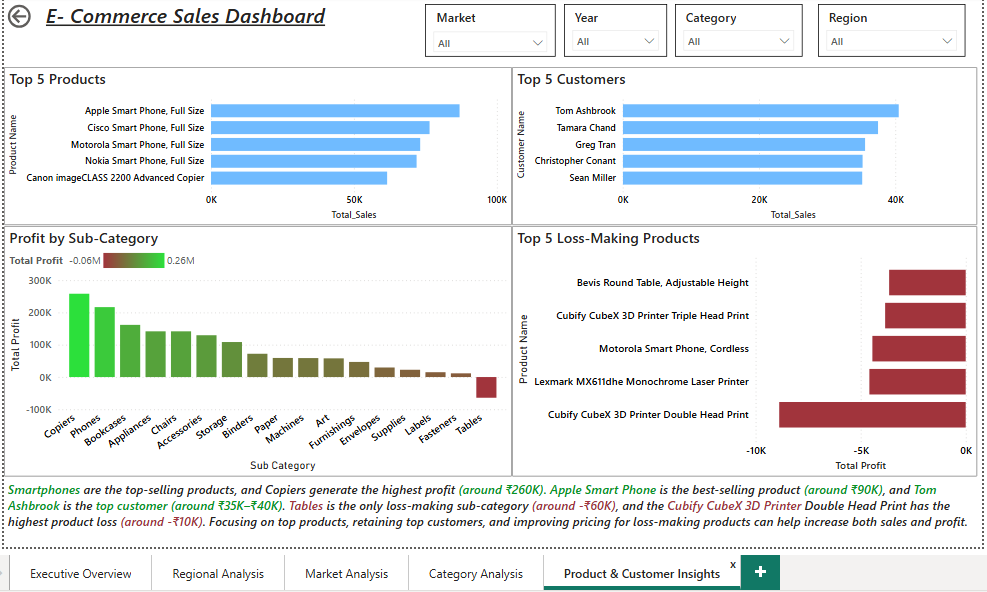

What the dashboard file says about the page in this screenshot:
{"tool":"powerbi","page":{"name":"Product & Customer Insights","canvas":[1280,720],"ordinal":4},"visuals":[{"type":"clusteredBarChart","title":"Top 5 Products","fields":{"Category":["E-Commerce.product_name"],"Y":["E-Commerce.Total_Sales"]},"box":[0,92.2,665.3,207.4],"z":0},{"type":"columnChart","title":"Profit by Sub-Category","fields":{"Category":["E-Commerce.sub_category"],"Y":["E-Commerce.Total_Profit"]},"box":[0,299.5,665.3,328.3],"z":1000},{"type":"clusteredBarChart","title":"Top 5 Customers","fields":{"Y":["E-Commerce.Total_Sales"],"Category":["E-Commerce.customer_name"]},"box":[665.3,92.2,609.1,207.4],"z":2000},{"type":"clusteredBarChart","title":"Top 5 Loss-Making Products","fields":{"Category":["E-Commerce.product_name"],"Y":["E-Commerce.Total_Profit"]},"box":[665.3,299.5,609.1,328.3],"z":3000},{"type":"slicer","fields":{"Values":["E-Commerce.market"]},"box":[551.5,8.6,171.4,69.1],"z":4000},{"type":"slicer","fields":{"Values":["E-Commerce.year"]},"box":[733,8.6,135.4,69.1],"z":5000},{"type":"slicer","fields":{"Values":["E-Commerce.category"]},"box":[878.4,8.6,167,69.1],"z":6000},{"type":"slicer","fields":{"Values":["E-Commerce.region"]},"box":[1065.6,8.6,193,69.1],"z":7000},{"type":"textbox","box":[50,0,475,50],"z":8000},{"type":"textbox","box":[0,627.8,1274.4,92.2],"z":9000},{"type":"actionButton","box":[0,5,100,40],"z":10000}]}

Visuals, with their boxes on the page's 1280x720 design canvas (x1, y1, x2, y2). These are canvas units, not pixel positions in the 987x592 screenshot, which may show the page scaled, cropped or inside an application window:
"Top 5 Products" clusteredBarChart: {"x1": 0, "y1": 92, "x2": 665, "y2": 300}
"Profit by Sub-Category" columnChart: {"x1": 0, "y1": 300, "x2": 665, "y2": 628}
"Top 5 Customers" clusteredBarChart: {"x1": 665, "y1": 92, "x2": 1274, "y2": 300}
"Top 5 Loss-Making Products" clusteredBarChart: {"x1": 665, "y1": 300, "x2": 1274, "y2": 628}
slicer - E-Commerce.market: {"x1": 552, "y1": 9, "x2": 723, "y2": 78}
slicer - E-Commerce.year: {"x1": 733, "y1": 9, "x2": 868, "y2": 78}
slicer - E-Commerce.category: {"x1": 878, "y1": 9, "x2": 1045, "y2": 78}
slicer - E-Commerce.region: {"x1": 1066, "y1": 9, "x2": 1259, "y2": 78}
textbox: {"x1": 50, "y1": 0, "x2": 525, "y2": 50}
textbox: {"x1": 0, "y1": 628, "x2": 1274, "y2": 720}
actionButton: {"x1": 0, "y1": 5, "x2": 100, "y2": 45}
